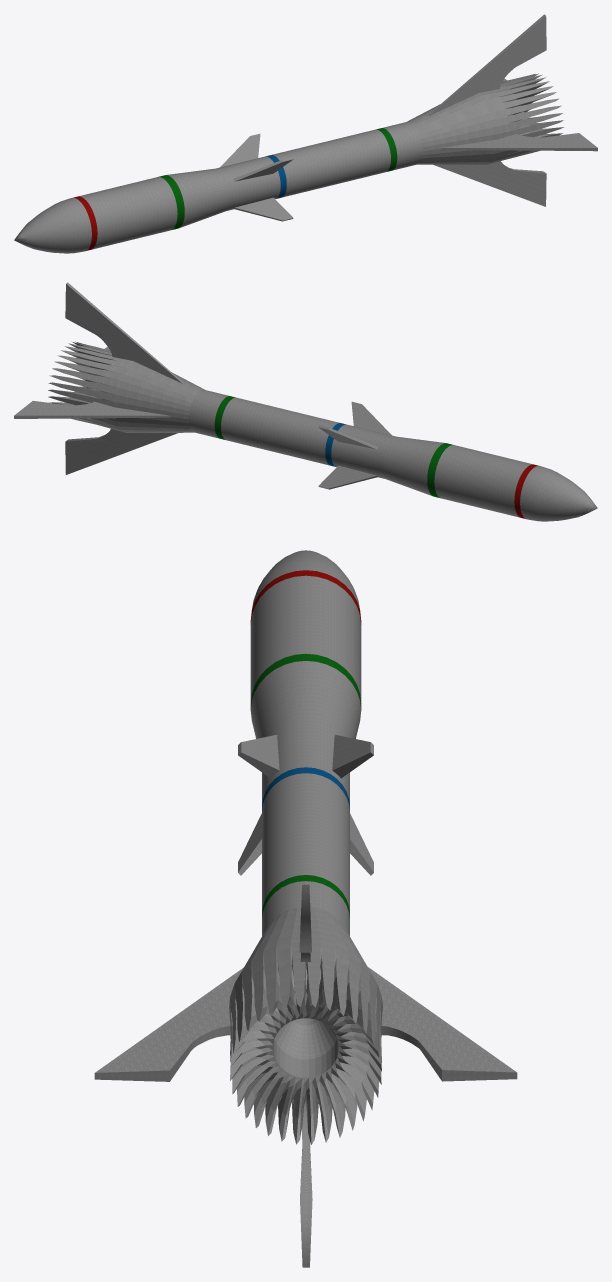
File: M5-missile-rocket.glb
3 renders of one model, top to bottom at view 1: azimuth 30°, elevation 25°; view 2: azimuth 150°, elevation 25°; view 3: azimuth 270°, elevation 25°, orthographic. The views are drawn at different scales.
Parts seen in each view (by area): view 1: Cylinder_Material.001_0, Cylinder.003_Material.003_0, Cylinder.004_Material.002_0; view 2: Cylinder_Material.001_0, Cylinder.003_Material.003_0, Cylinder.004_Material.002_0; view 3: Cylinder_Material.001_0, Cylinder.003_Material.003_0.
Boxes of the visible parts, left/top/right/bottom form: Cylinder_Material.001_0: left=14, top=14, right=597, bottom=253; Cylinder.003_Material.003_0: left=158, top=128, right=397, bottom=229; Cylinder.004_Material.002_0: left=73, top=196, right=97, bottom=250; Cylinder_Material.001_0: left=14, top=282, right=597, bottom=521; Cylinder.003_Material.003_0: left=214, top=396, right=452, bottom=497; Cylinder.004_Material.002_0: left=514, top=464, right=538, bottom=518; Cylinder_Material.001_0: left=94, top=550, right=517, bottom=1267; Cylinder.003_Material.003_0: left=250, top=653, right=361, bottom=918.
Size of the model in its own units: 19.41 by 6.68 by 6.68.
4 materials, 1 textured.
